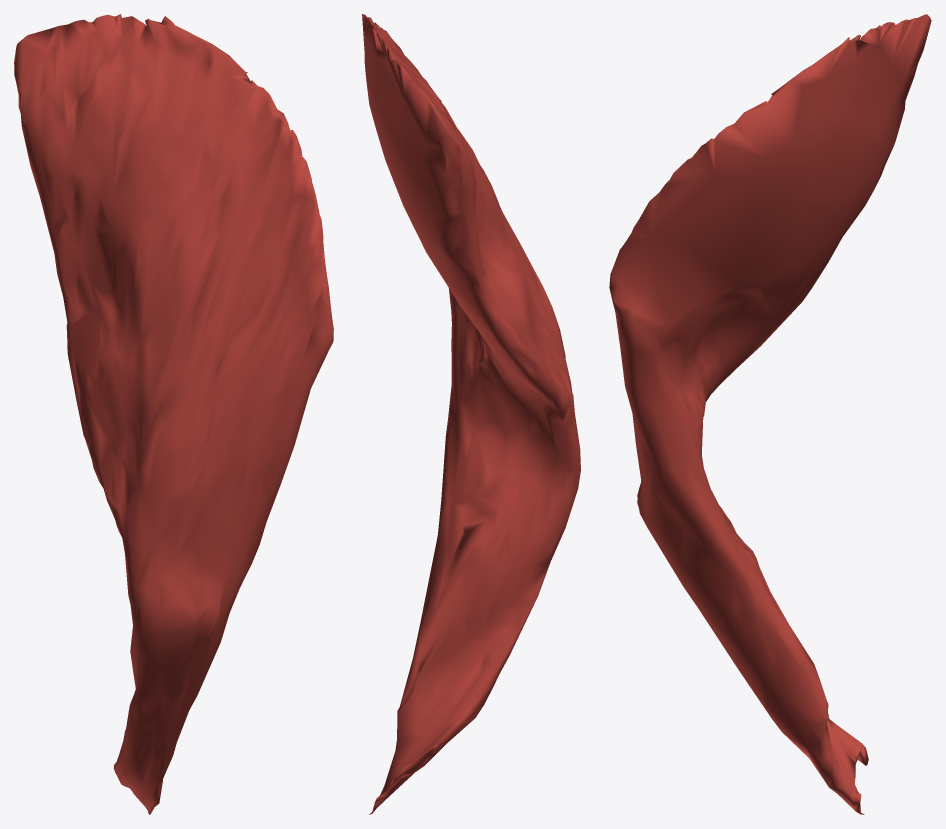
File: musculos-iliacus-muscle-l.glb
The picture shows the model from 3 angles, left to right: view 1: azimuth 30°, elevation 25°; view 2: azimuth 150°, elevation 25°; view 3: azimuth 270°, elevation 25°; orthographic projection. The views are drawn at different scales.
Parts seen in each view (by area): view 1: Iliacus muscle.l; view 2: Iliacus muscle.l; view 3: Iliacus muscle.l.
Boxes of the visible parts, box(x1,y1,x2,y2) form: Iliacus muscle.l: box(14, 14, 333, 814); Iliacus muscle.l: box(362, 14, 580, 814); Iliacus muscle.l: box(609, 14, 931, 814).
Bounding box in the file's own units: 0.0561 × 0.231 × 0.0862.
